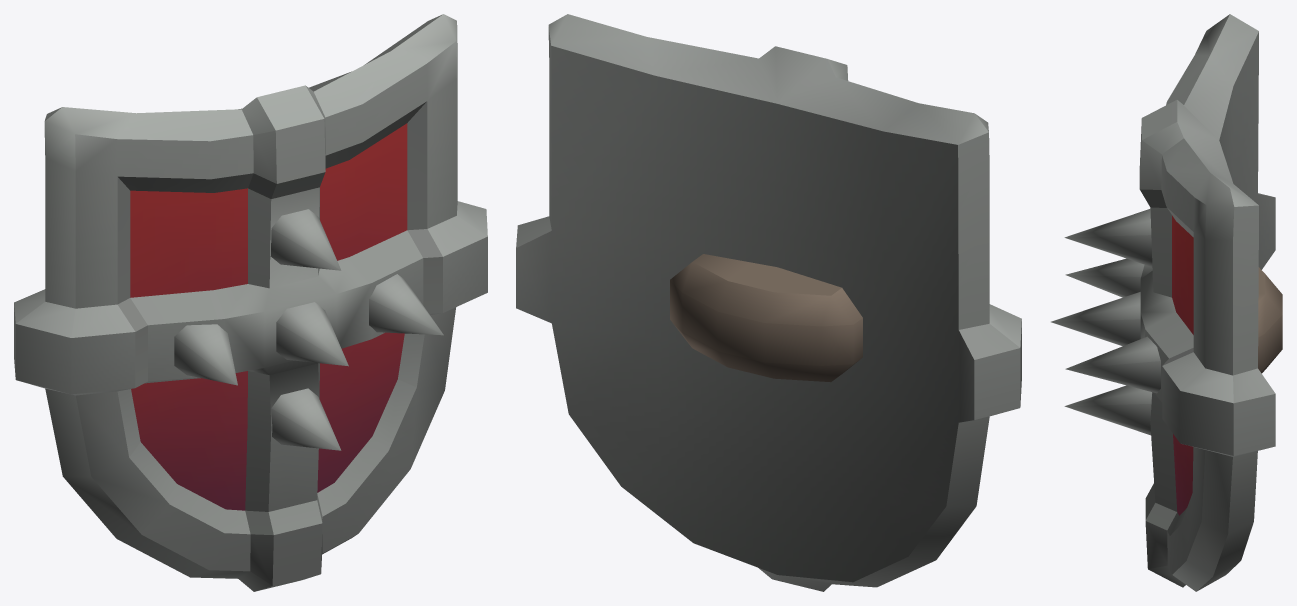
File: shield_spikes_color.glb
3 renders of one model, left to right at view 1: azimuth 30°, elevation 25°; view 2: azimuth 150°, elevation 25°; view 3: azimuth 270°, elevation 25°, orthographic. The views are drawn at different scales.
Visible parts, largest first — view 1: shield_spikes_color; view 2: shield_spikes_color; view 3: shield_spikes_color.
Part boxes in pixels (x1,y1,x2,y2): shield_spikes_color: (14,14,487,591); shield_spikes_color: (516,14,1021,591); shield_spikes_color: (1051,14,1282,591).
Bounding box in the file's own units: 0.6798 × 0.7 × 0.3104.
Materials: 1 (1 with a texture image).
